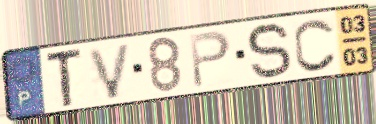8: (146, 35, 184, 95)
C: (292, 17, 339, 73)
P: (187, 28, 234, 91)
S: (245, 20, 295, 83)
T: (45, 45, 85, 110)
V: (85, 40, 134, 102)
